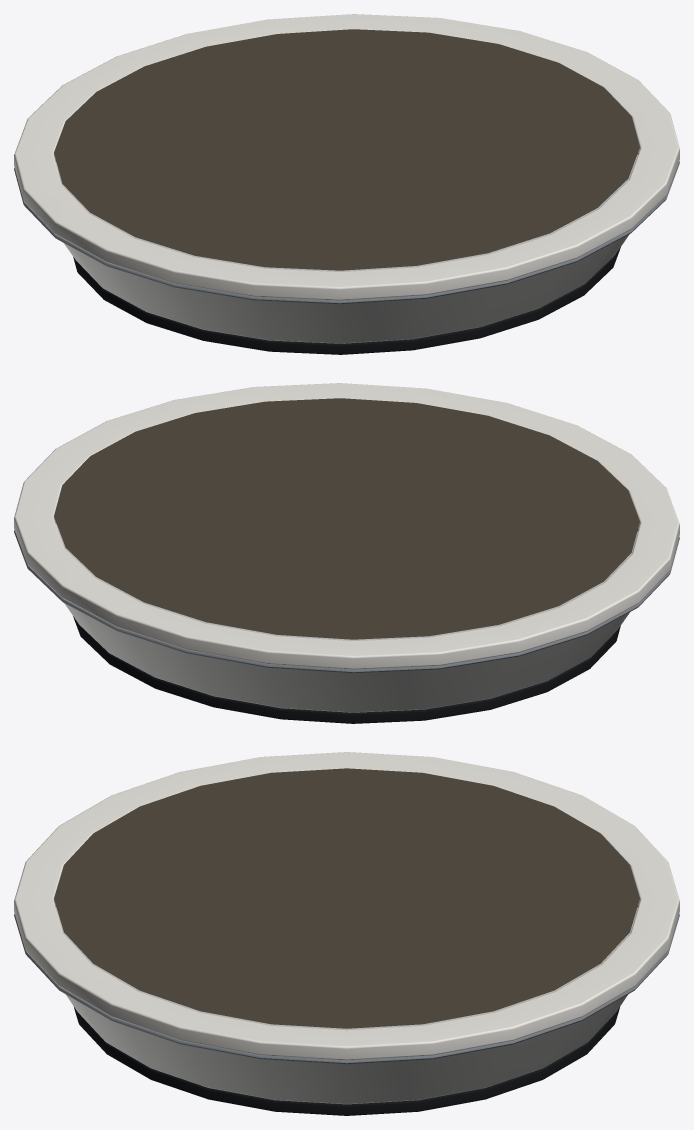
File: PROP_PLANTER_01.glb
3 views of the same model, one above another, from view 1: azimuth 30°, elevation 25°; view 2: azimuth 150°, elevation 25°; view 3: azimuth 270°, elevation 25° (orthographic). The views are drawn at different scales.
Parts seen in each view (by area): view 1: CIVRUM_GAME_PROP_PLANTER_01; view 2: CIVRUM_GAME_PROP_PLANTER_01; view 3: CIVRUM_GAME_PROP_PLANTER_01.
Boxes of the visible parts, left/top/right/bottom form: CIVRUM_GAME_PROP_PLANTER_01: left=14, top=14, right=679, bottom=354; CIVRUM_GAME_PROP_PLANTER_01: left=14, top=383, right=679, bottom=723; CIVRUM_GAME_PROP_PLANTER_01: left=14, top=752, right=679, bottom=1115.
Size of the model in its own units: 3.5 by 0.523 by 3.33.
